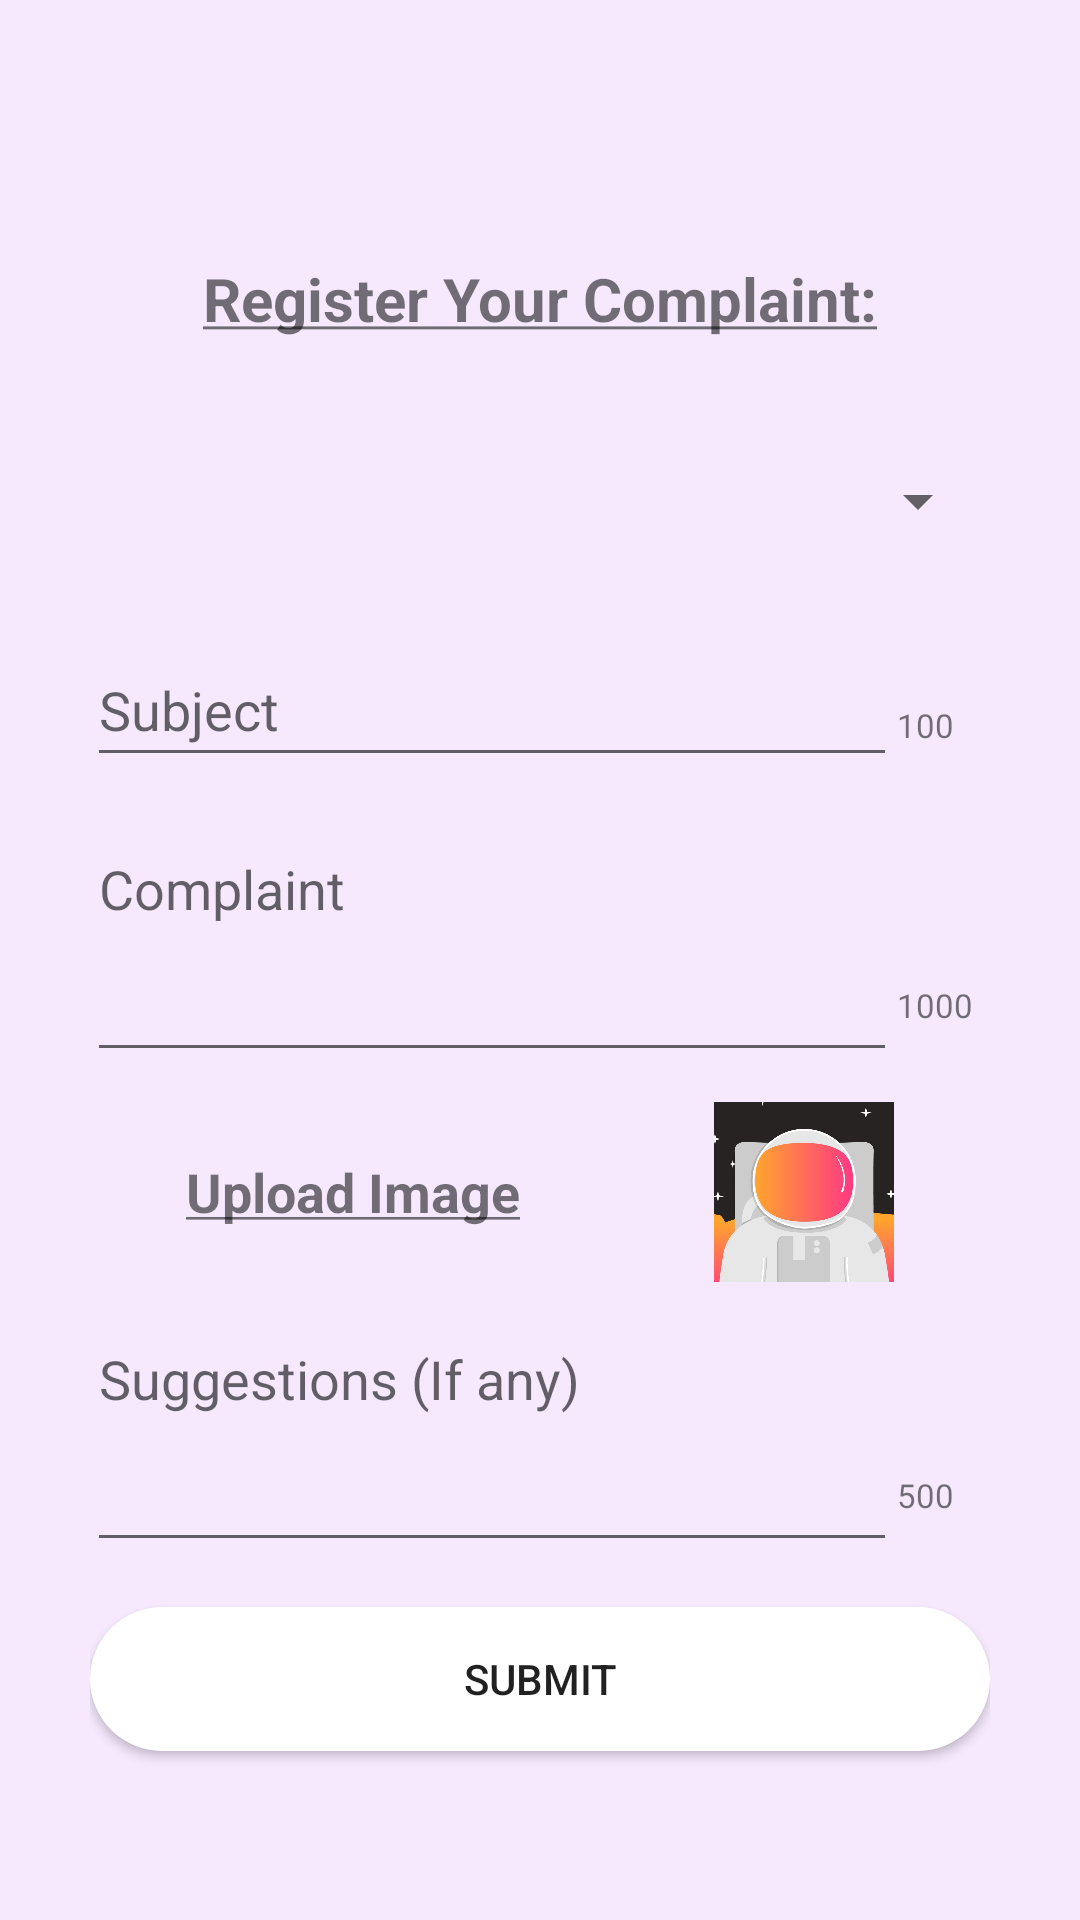

Point at icon controls on the screen. Image size 1080w x 1920h, points as [x,y].
astrodefault: [804,1192]
